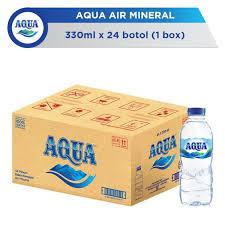BIODEGRADABLE: (174, 105, 219, 212)
